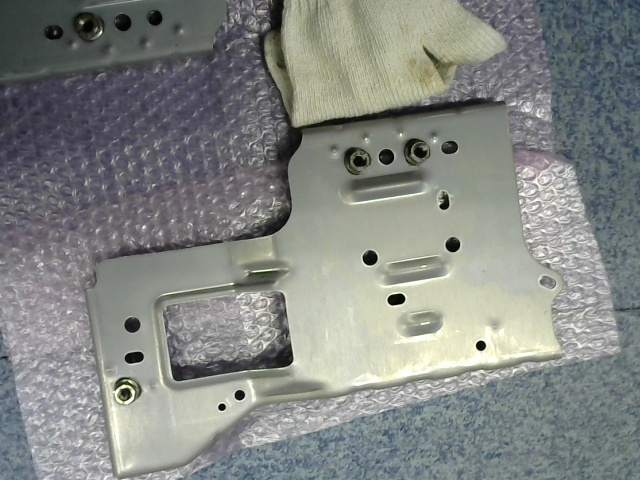dog: (74, 10, 105, 43), (343, 147, 371, 176), (403, 138, 431, 167), (113, 378, 141, 406)
